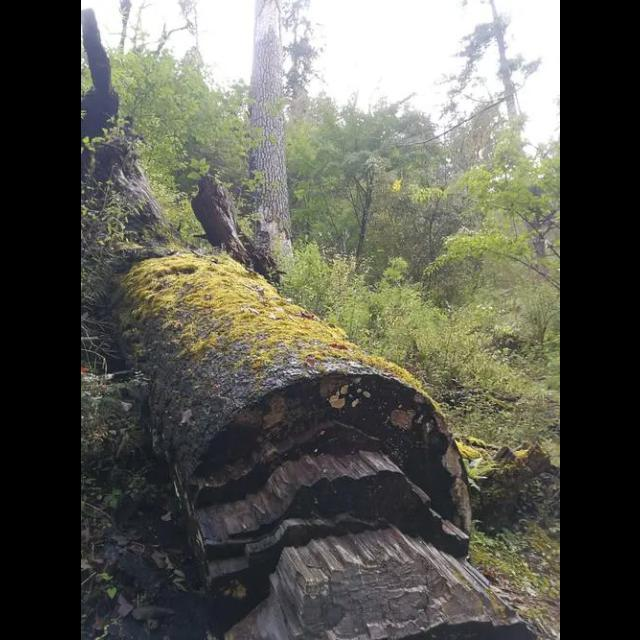fallen_tree: (80, 134, 478, 618)
